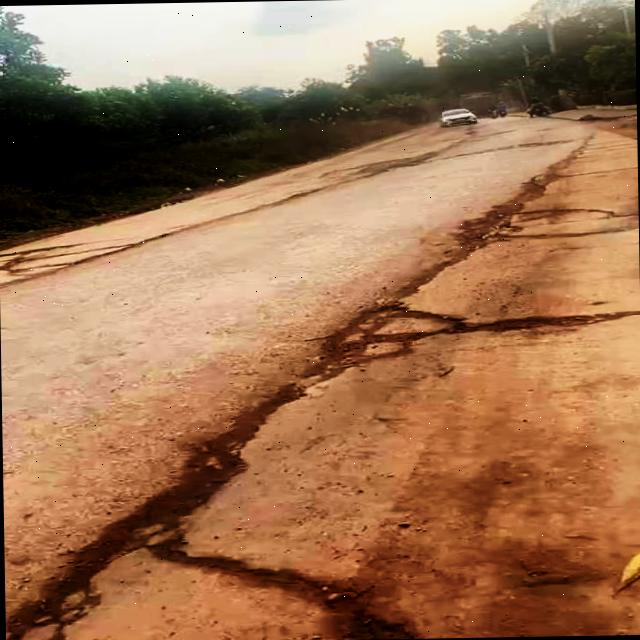pothole: (311, 291, 472, 374), (473, 308, 636, 334)
